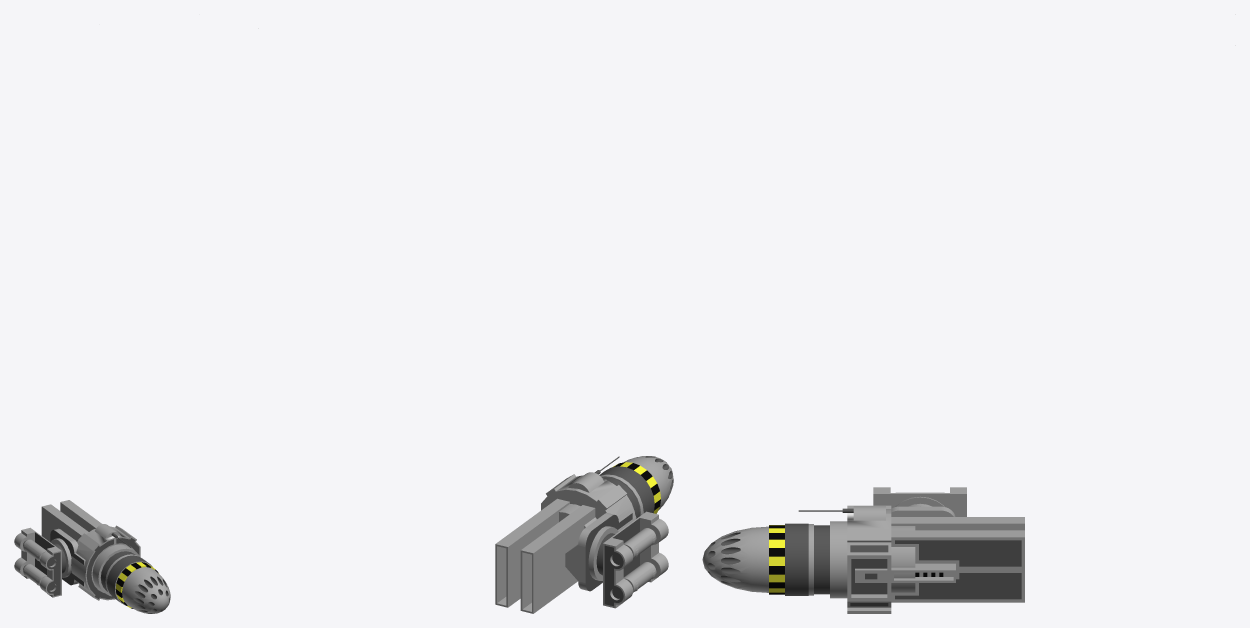
Rendered from mecha_part1.fbx.
The picture shows the model from 3 angles, left to right: view 1: azimuth 30°, elevation 25°; view 2: azimuth 150°, elevation 25°; view 3: azimuth 270°, elevation 25°; orthographic projection. The views are drawn at different scales.
Visible parts, largest first — view 1: Model; view 2: Model; view 3: Model.
Boxes of the visible parts, bbox=[...] form: Model: bbox=[14, 500, 170, 613]; Model: bbox=[258, 28, 673, 613]; Model: bbox=[702, 14, 1235, 613].
Size of the model in its own units: 379 by 752 by 538.
